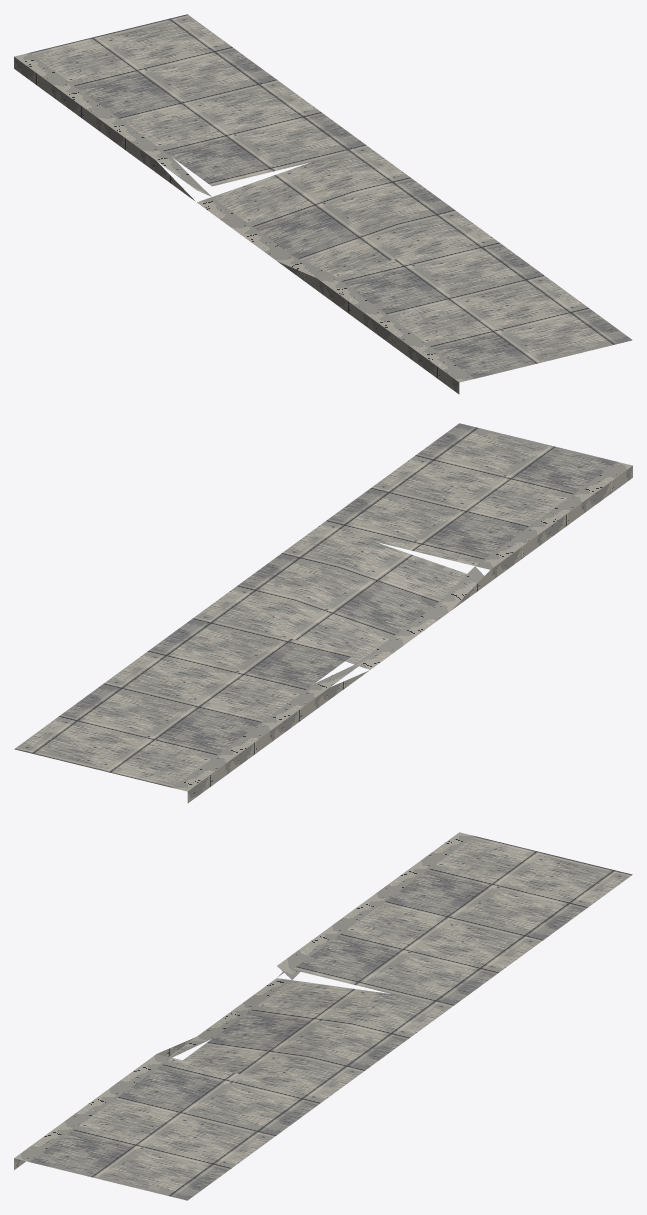
Rendered from SW_CurbRamp_10m.obj.
The picture shows the model from 3 angles, top to bottom: view 1: azimuth 30°, elevation 25°; view 2: azimuth 150°, elevation 25°; view 3: azimuth 330°, elevation 25°; orthographic projection.
Parts seen in each view (by area): view 1: SW_CurbRamp_10m_Mesh_M_Road_SidewalkConcrete, SW_CurbRamp_10m_Mesh_M_Road_CurbConcrete; view 2: SW_CurbRamp_10m_Mesh_M_Road_SidewalkConcrete, SW_CurbRamp_10m_Mesh_M_Road_CurbConcrete; view 3: SW_CurbRamp_10m_Mesh_M_Road_SidewalkConcrete, SW_CurbRamp_10m_Mesh_M_Road_CurbConcrete.
Part boxes in pixels (x1,y1,x2,y2): SW_CurbRamp_10m_Mesh_M_Road_SidewalkConcrete: (29, 14, 632, 378); SW_CurbRamp_10m_Mesh_M_Road_CurbConcrete: (14, 53, 474, 394); SW_CurbRamp_10m_Mesh_M_Road_SidewalkConcrete: (14, 423, 617, 787); SW_CurbRamp_10m_Mesh_M_Road_CurbConcrete: (172, 462, 632, 803); SW_CurbRamp_10m_Mesh_M_Road_SidewalkConcrete: (30, 836, 632, 1200); SW_CurbRamp_10m_Mesh_M_Road_CurbConcrete: (14, 832, 474, 1169).
Bounding box in the file's own units: 2.25 × 0.15 × 10.
Materials: 2 (2 with a texture image).
